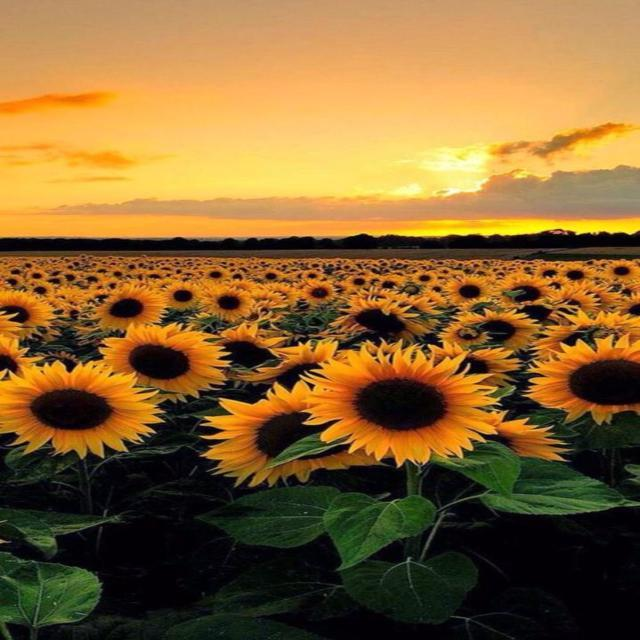sunflower: (298, 342, 501, 468), (196, 380, 380, 488), (0, 360, 165, 459), (522, 333, 640, 425), (96, 322, 232, 396), (524, 308, 640, 371), (234, 340, 345, 388), (483, 410, 572, 462), (332, 296, 432, 342), (448, 307, 542, 355), (213, 321, 292, 378), (426, 340, 520, 386), (90, 284, 168, 329), (332, 337, 426, 367), (0, 288, 55, 326), (198, 284, 255, 320), (544, 286, 604, 318), (441, 273, 496, 307), (495, 272, 553, 304), (0, 338, 44, 380), (567, 279, 621, 313), (436, 323, 493, 347), (389, 292, 444, 316), (507, 302, 558, 326), (160, 282, 202, 310), (29, 350, 82, 372), (298, 278, 336, 306), (456, 296, 508, 316), (0, 310, 34, 338), (600, 260, 640, 282), (260, 282, 299, 304), (559, 264, 600, 284), (609, 292, 640, 316), (347, 286, 400, 300), (254, 290, 288, 309), (532, 262, 563, 280), (596, 278, 626, 294), (32, 326, 62, 342), (545, 276, 573, 292), (62, 303, 87, 320), (614, 282, 640, 298), (203, 268, 231, 282), (343, 274, 371, 288), (30, 283, 54, 299), (374, 276, 406, 288), (412, 271, 438, 285), (226, 281, 256, 293), (91, 290, 115, 304), (425, 280, 448, 294), (47, 289, 73, 301), (2, 274, 24, 288), (63, 296, 87, 308), (81, 272, 102, 284), (226, 270, 248, 281), (261, 271, 283, 282), (28, 270, 48, 282), (60, 272, 80, 284), (368, 274, 387, 286), (48, 275, 68, 286), (302, 270, 324, 280), (448, 270, 466, 280), (292, 270, 308, 281), (51, 306, 68, 316), (103, 279, 120, 289), (86, 282, 104, 291), (6, 267, 25, 275), (145, 272, 164, 280), (110, 269, 126, 278), (179, 274, 196, 282), (20, 261, 36, 269), (48, 269, 66, 276), (179, 270, 196, 277), (434, 273, 447, 280)
